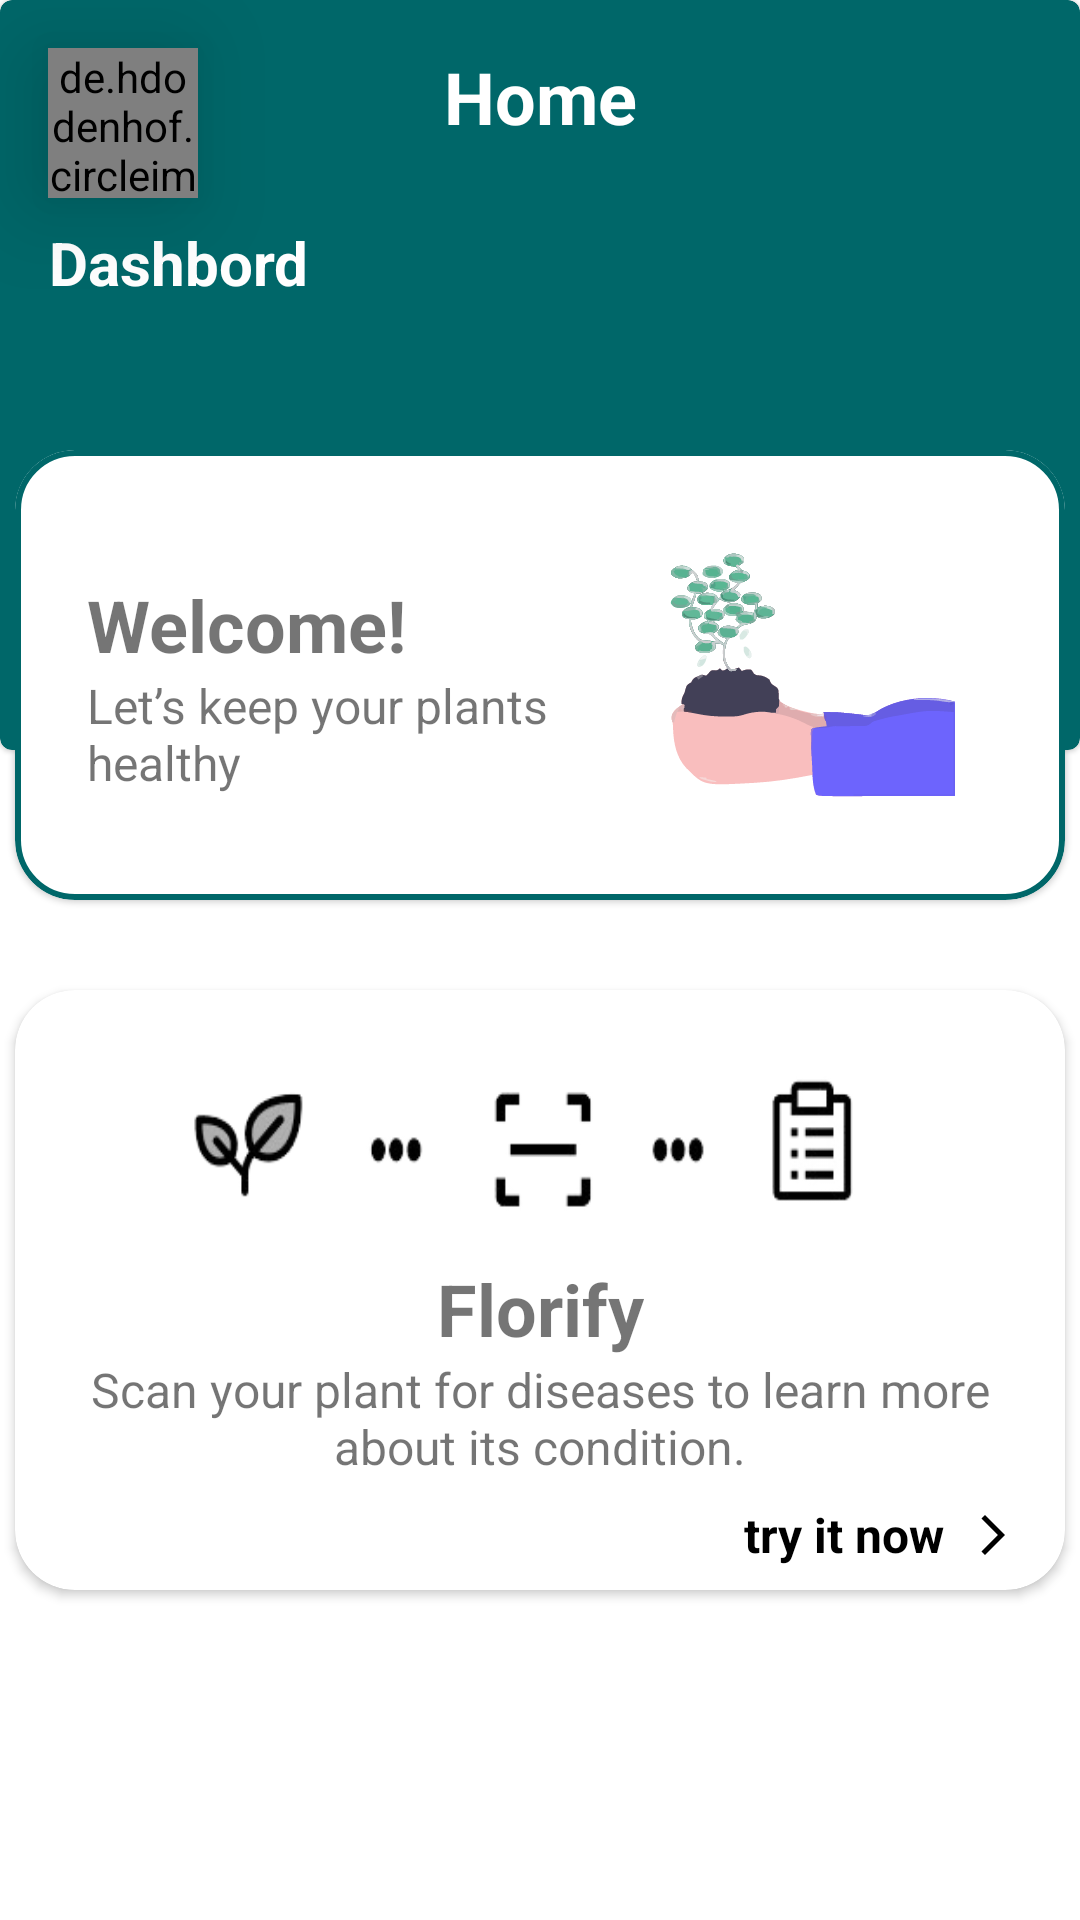

Named icons in this screenshot (1080px x 1920px) and their centers, [x,y]:
arrow: [993,1535]
